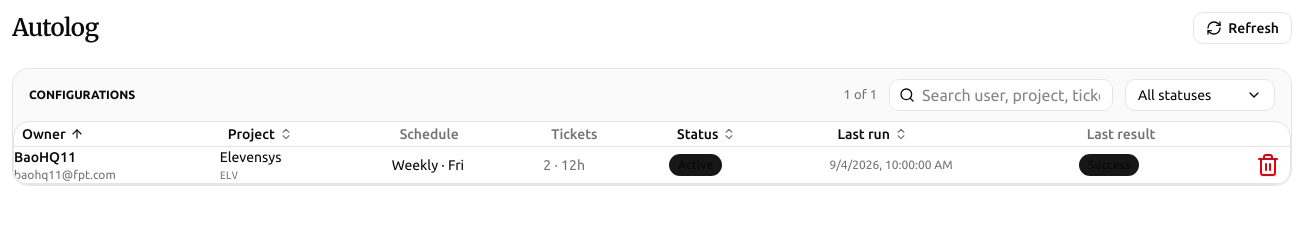
Test: AutologTable › displays a distinct empty state when a search matches nothing
Type "nobody" into the field named "Search configurations".
click(1001, 95); type("nobody")  # box [889,79,1113,111]
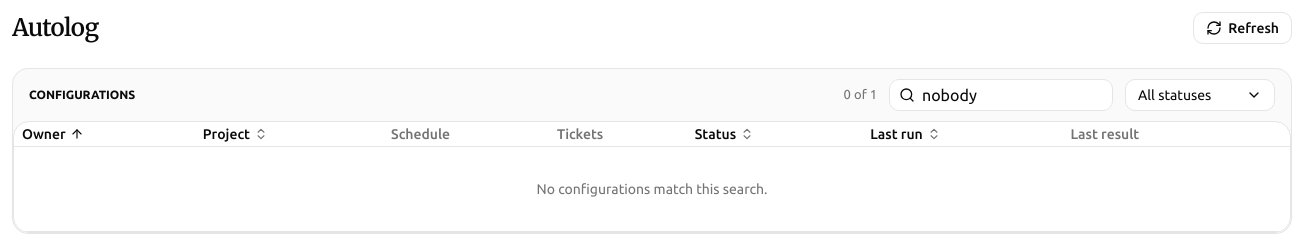
Check: the text "No configurations match this search." is shown, box [14,146,1290,232]
